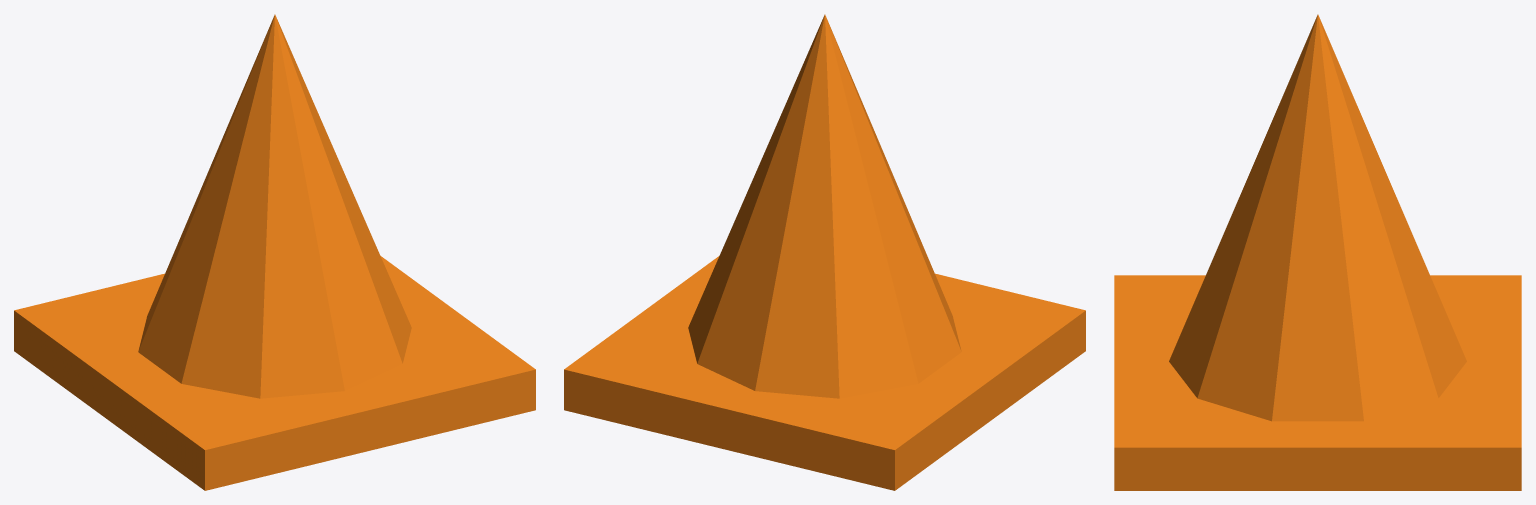
The model's file is Motor_Cone.fbx.
3 views of the same model, side by side, from view 1: azimuth 30°, elevation 25°; view 2: azimuth 150°, elevation 25°; view 3: azimuth 270°, elevation 25° (orthographic). The views are drawn at different scales.
Visible parts, largest first — view 1: Cone; view 2: Cone; view 3: Cone.
Boxes of the visible parts, x1,y1,x2,y2 form: Cone: [14, 14, 535, 490]; Cone: [564, 14, 1085, 490]; Cone: [1114, 14, 1521, 490].
Bounding box in the file's own units: 0.34 × 0.36 × 0.34.
